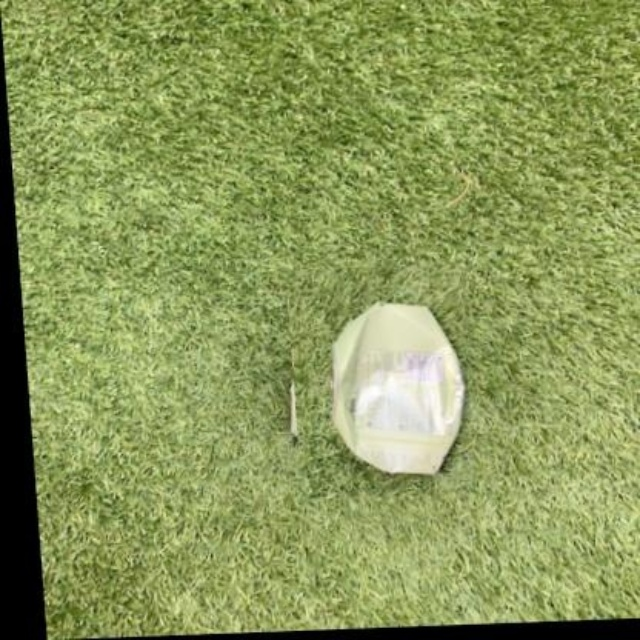trash: (332, 303, 463, 472)
